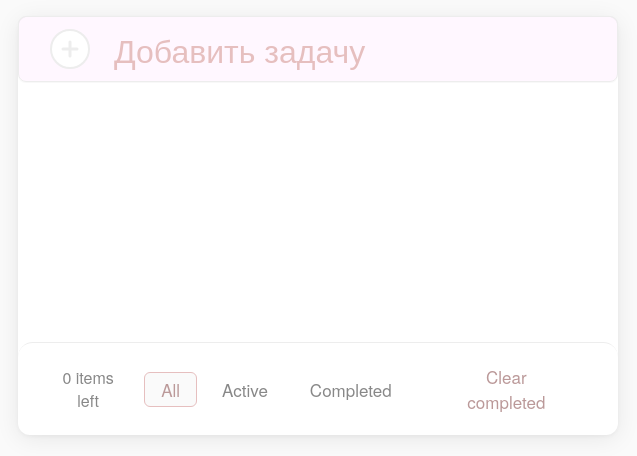
Scenario: TodoMainComponent › добавление задачи
Type "Тестовая задача" into the field with placeholder "Добавить задачу".
click(350, 49); type("Тестовая задача")  # box [114,26,586,72]
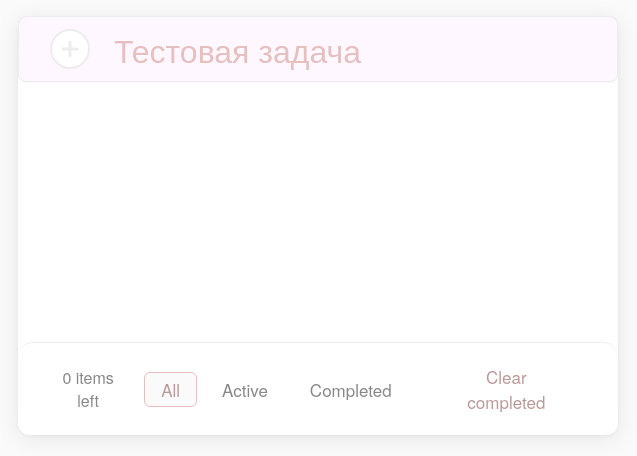
Press Enter in the field with placeholder "Добавить задачу", box [114,26,586,72]
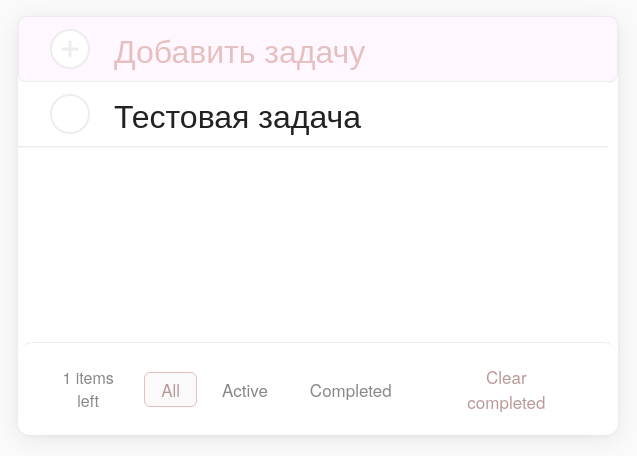
Expected: the text "Тестовая задача" is shown, [114,91,361,137]
